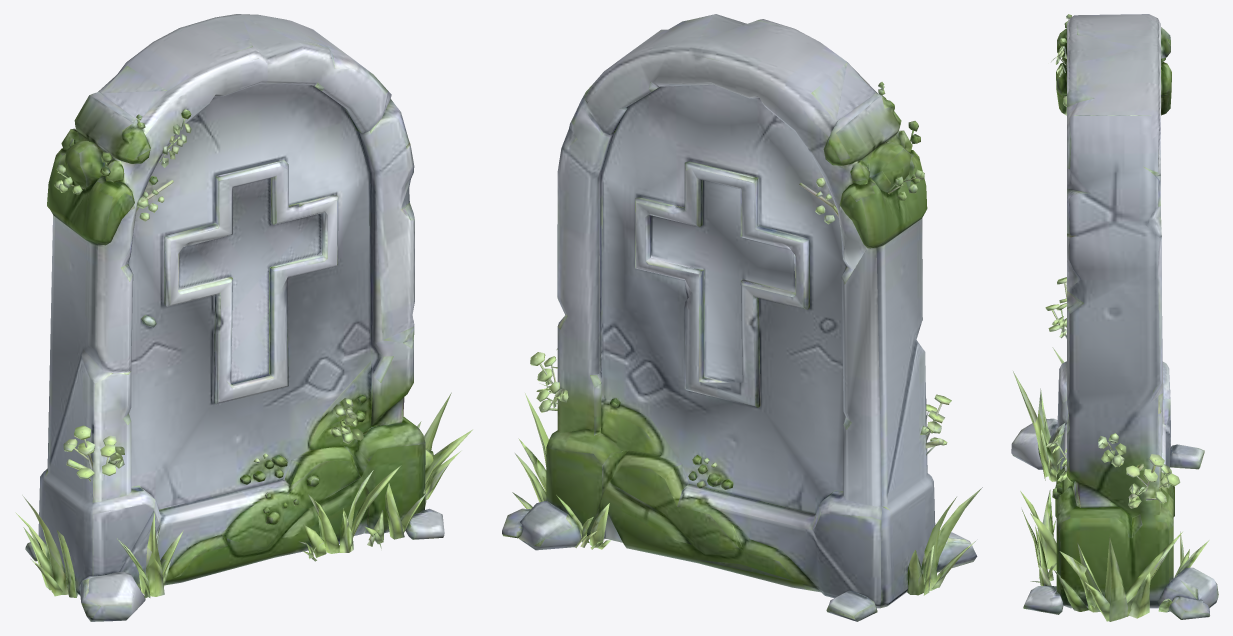
Rendered from prop_tomb.glb.
The picture shows the model from 3 angles, left to right: view 1: azimuth 30°, elevation 25°; view 2: azimuth 150°, elevation 25°; view 3: azimuth 270°, elevation 25°; orthographic projection. The views are drawn at different scales.
Parts seen in each view (by area): view 1: prop_tomb; view 2: prop_tomb; view 3: prop_tomb.
Boxes of the visible parts, x1,y1,x2,y2 form: prop_tomb: (15, 14, 472, 621); prop_tomb: (502, 14, 982, 621); prop_tomb: (1011, 14, 1218, 621).
Size of the model in its own units: 1.43 by 1.6 by 0.6043.
1 material, 1 textured.
